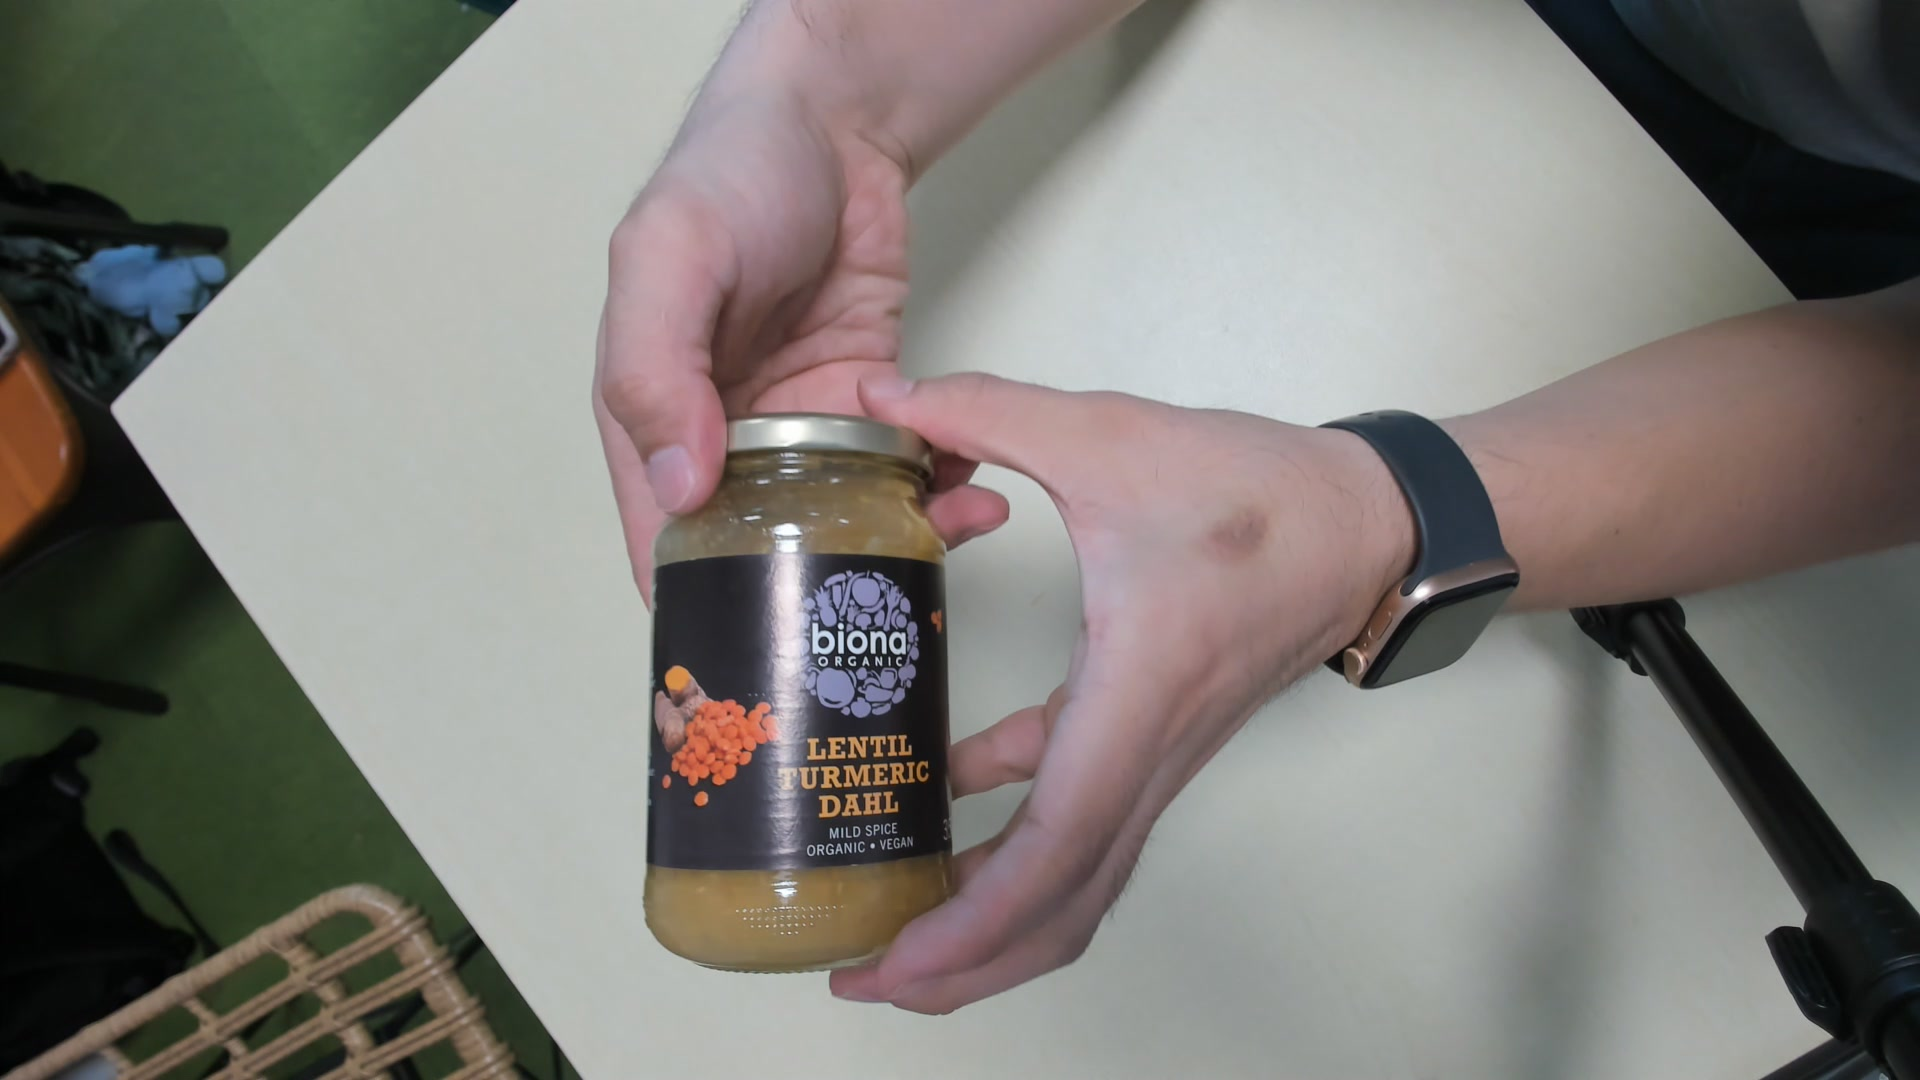OtherSauceDressing_300-399g_NonHalal_NonHealthy: (637, 419, 957, 963)
